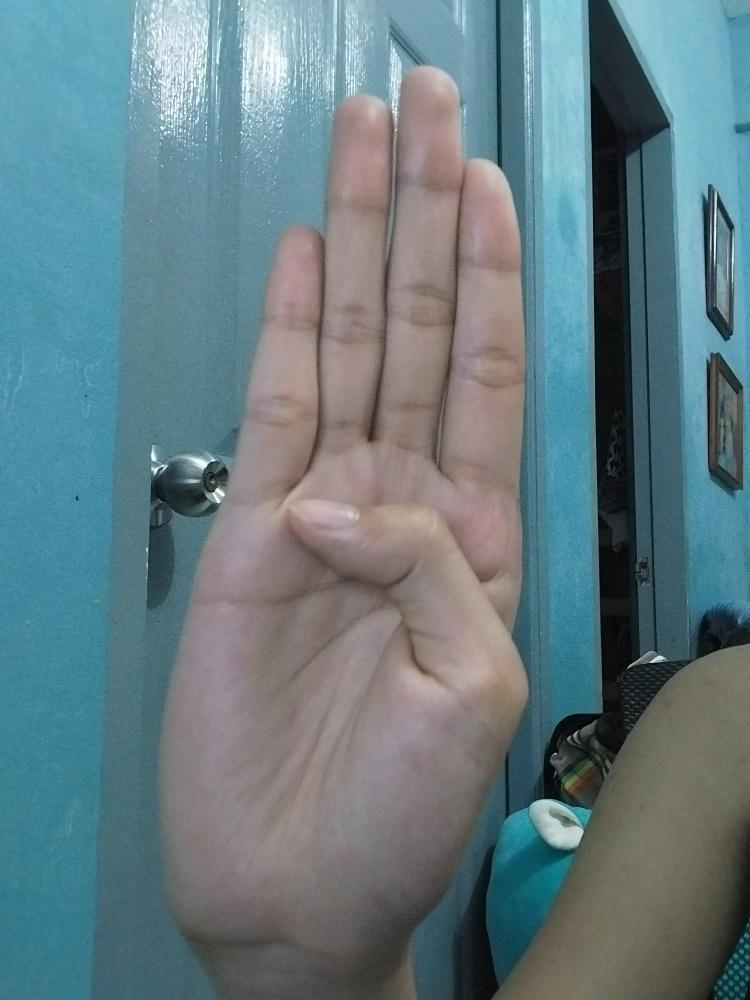b: (155, 60, 537, 952)
